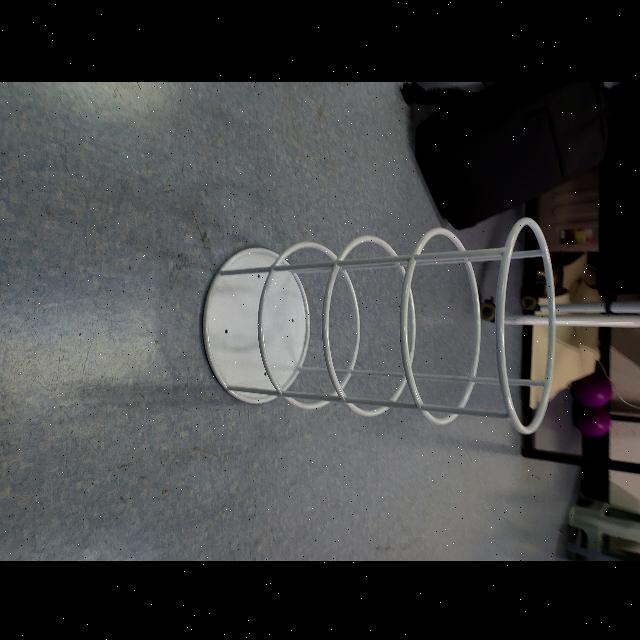S: (197, 211, 558, 437)
